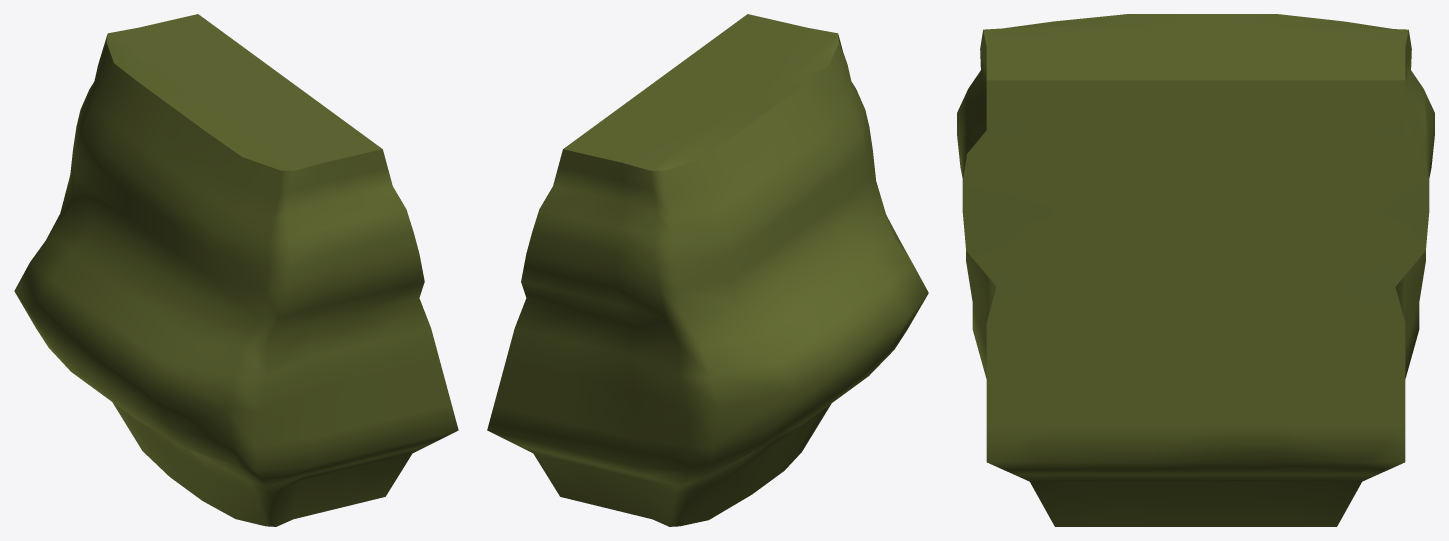
The model's file is Ground under statue.fbx.
The picture shows the model from 3 angles, left to right: view 1: azimuth 30°, elevation 25°; view 2: azimuth 150°, elevation 25°; view 3: azimuth 270°, elevation 25°; orthographic projection. The views are drawn at different scales.
Visible parts, largest first — view 1: Ground_under_statue; view 2: Ground_under_statue; view 3: Ground_under_statue.
Boxes of the visible parts, x1,y1,x2,y2 form: Ground_under_statue: [14, 14, 458, 526]; Ground_under_statue: [487, 14, 928, 526]; Ground_under_statue: [957, 14, 1434, 526].
Size of the model in its own units: 7.29 by 8.81 by 8.83.
